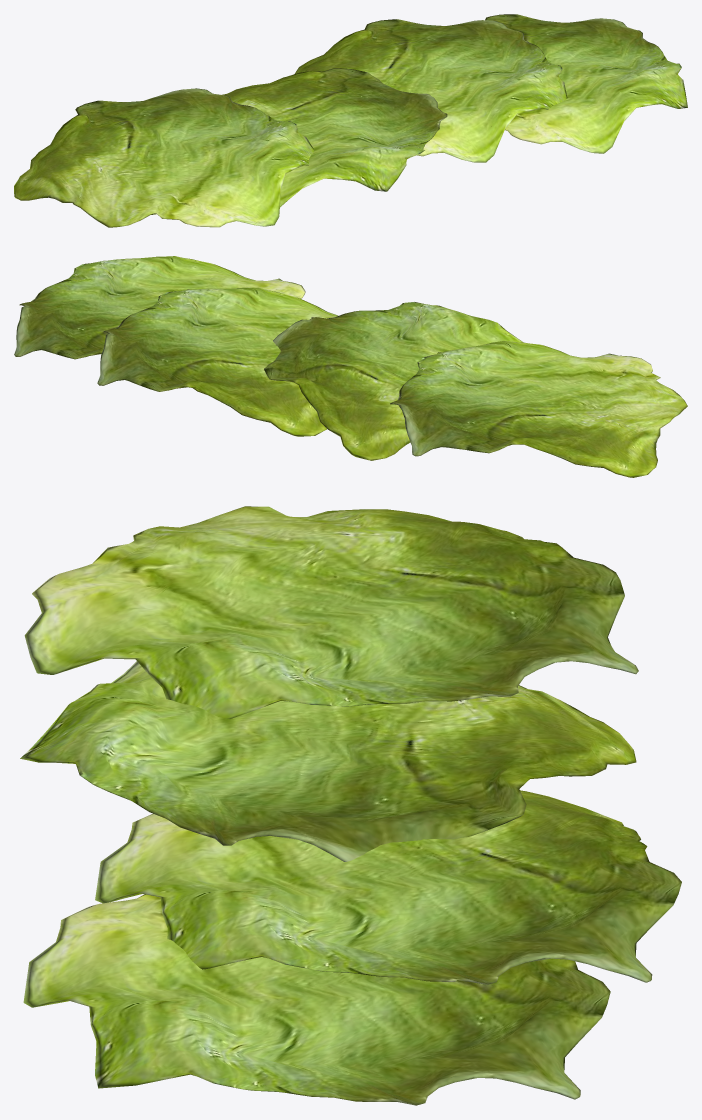
Rendered from CutCabbage_Visual.fbx.
The picture shows the model from 3 angles, top to bottom: view 1: azimuth 30°, elevation 25°; view 2: azimuth 150°, elevation 25°; view 3: azimuth 270°, elevation 25°; orthographic projection. The views are drawn at different scales.
Visible parts, largest first — view 1: Lettuce.001; view 2: Lettuce.001; view 3: Lettuce.001.
Part boxes in pixels (left/top/right/bottom): Lettuce.001: left=14, top=14, right=687, bottom=227; Lettuce.001: left=14, top=256, right=687, bottom=477; Lettuce.001: left=20, top=506, right=681, bottom=1105.
Bounding box in the file's own units: 34.16 × 2.25 × 15.65.
Materials: 1 (1 with a texture image).
